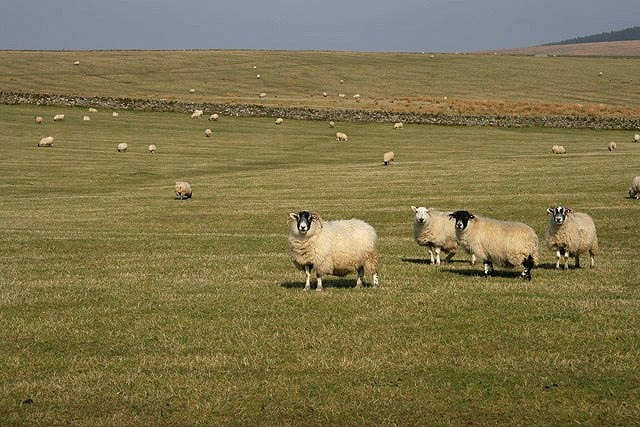grazing: (174, 179, 193, 200), (334, 129, 348, 142)
standing: (287, 208, 378, 289), (448, 206, 541, 279), (544, 204, 600, 270), (410, 200, 459, 267)
